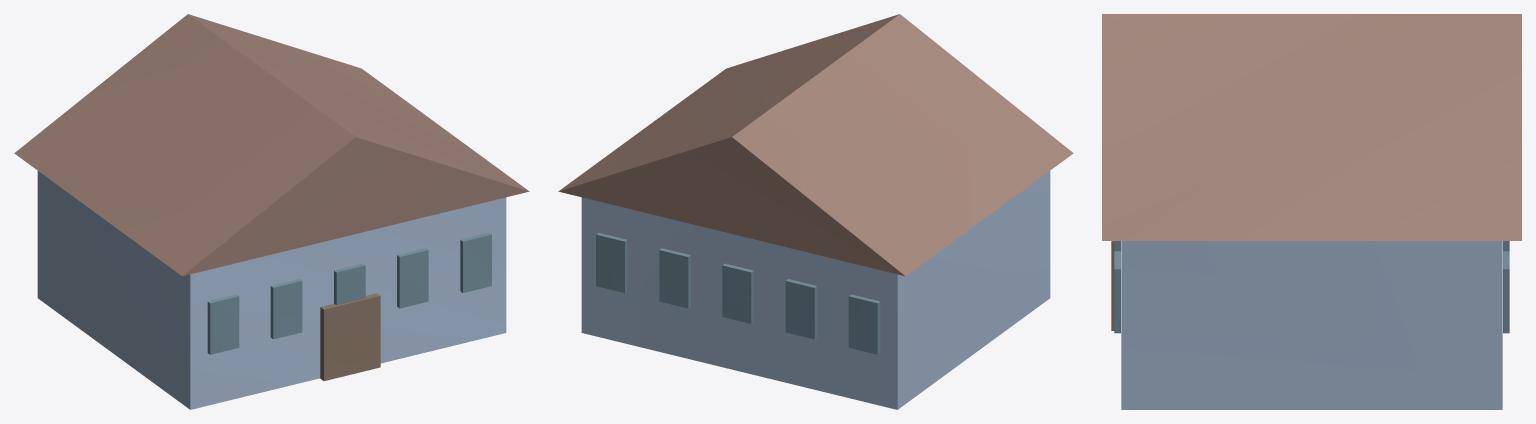
File: market-05.glb
3 views of the same model, side by side, from view 1: azimuth 30°, elevation 25°; view 2: azimuth 150°, elevation 25°; view 3: azimuth 270°, elevation 25° (orthographic). The views are drawn at different scales.
Parts seen in each view (by area): view 1: world; view 2: world; view 3: world.
Part boxes in pixels (x1=…): world: x1=14, y1=14, x2=529, y2=409; world: x1=558, y1=14, x2=1073, y2=409; world: x1=1102, y1=14, x2=1521, y2=409.
Bounding box in the file's own units: 1.9 × 1.25 × 1.59.
